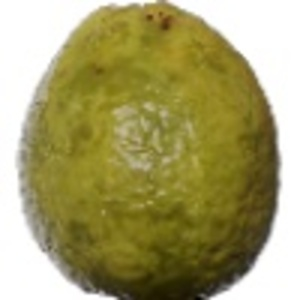goiaba: (12, 3, 286, 298)
